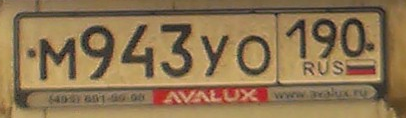character: (117, 22, 157, 80), (78, 24, 116, 82), (157, 23, 196, 78), (36, 36, 79, 82), (233, 30, 273, 79), (200, 32, 231, 79), (338, 18, 367, 59), (310, 17, 337, 60), (285, 18, 310, 63)
